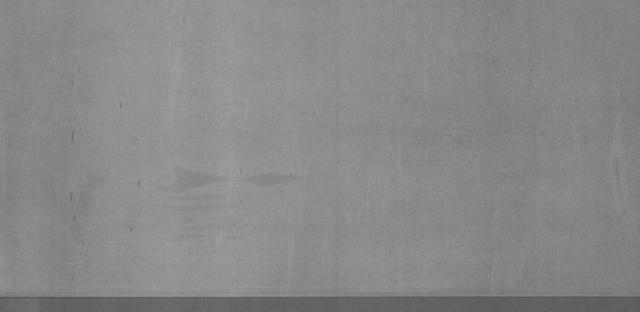oil_spot: (165, 162, 299, 195)
welding_line: (0, 286, 640, 308)
